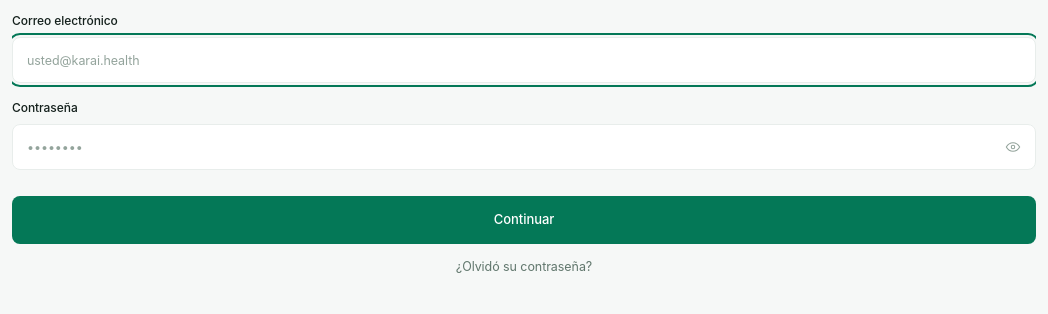
Test: LoginForm › renders its labels and its validation in Spanish
# The schema is built from `t`, so the message has to follow the labels.
Type "no-es-un-correo" into the field labelled "Correo electrónico" at [524, 60], box [12,37,1036,83]
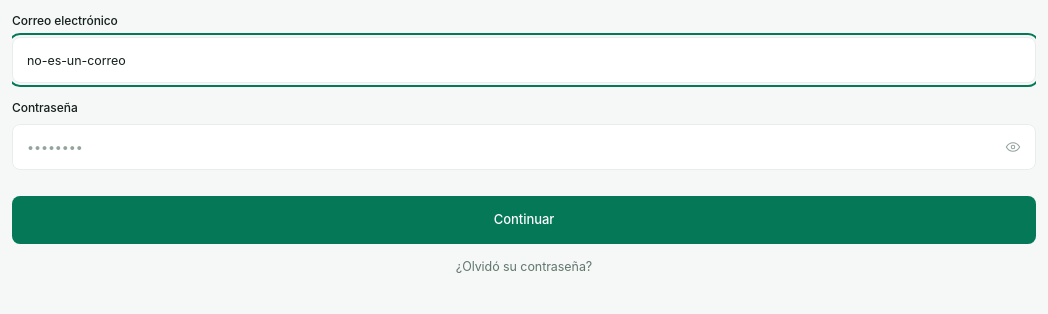
Type "Secreto123!" into the password field labelled "Contraseña" at [524, 147], box [12,124,1036,170]
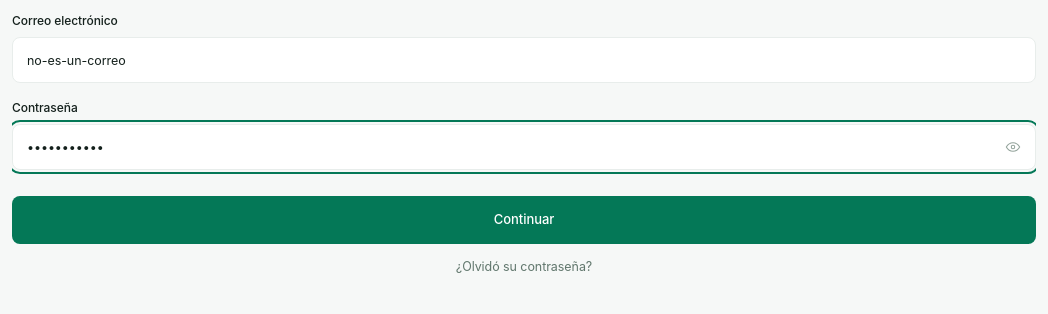
Click the button "Continuar" at [524, 220], box [12,196,1036,244]
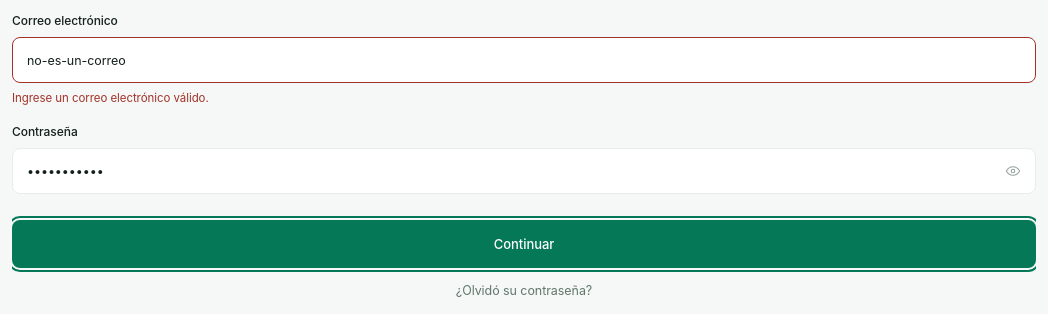
Expected: the text "Ingrese un correo electrónico válido." is shown, [12,91,209,105]
